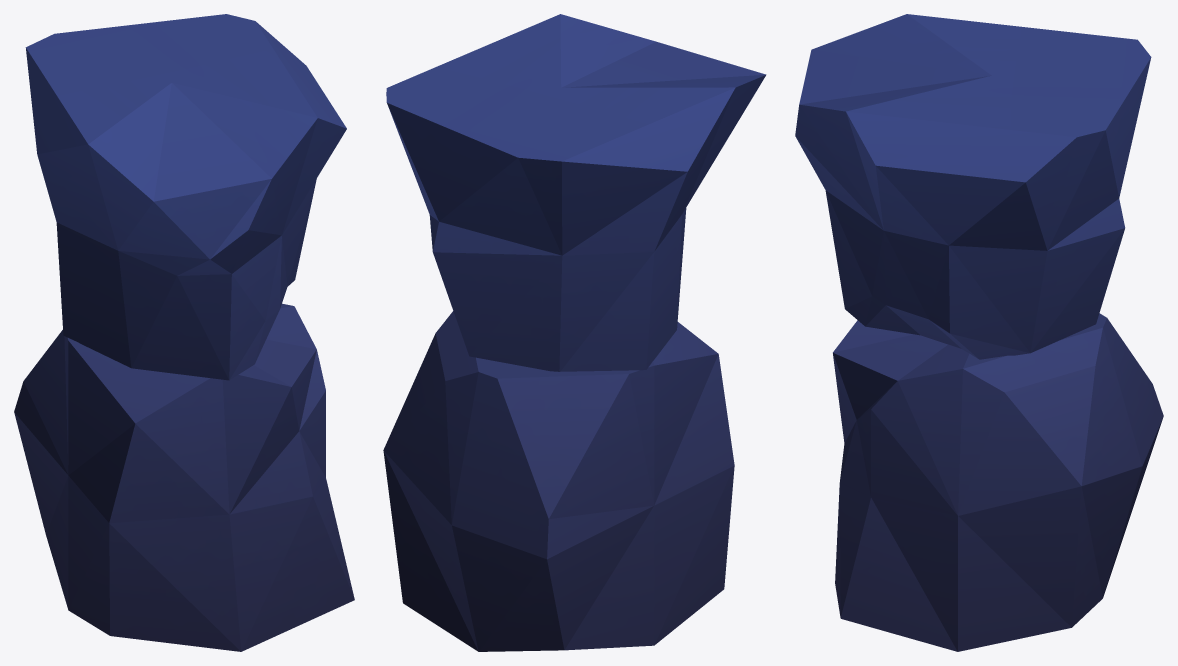
The model's file is rockColumn2.fbx.
3 renders of one model, left to right at view 1: azimuth 30°, elevation 25°; view 2: azimuth 150°, elevation 25°; view 3: azimuth 270°, elevation 25°, orthographic. The views are drawn at different scales.
Parts seen in each view (by area): view 1: rockColumn2; view 2: rockColumn2; view 3: rockColumn2.
Part boxes in pixels (<box>): rockColumn2: <box>14,14,354,651</box>; rockColumn2: <box>383,14,766,651</box>; rockColumn2: <box>795,14,1163,651</box>.
Size of the model in its own units: 135 by 234 by 153.
